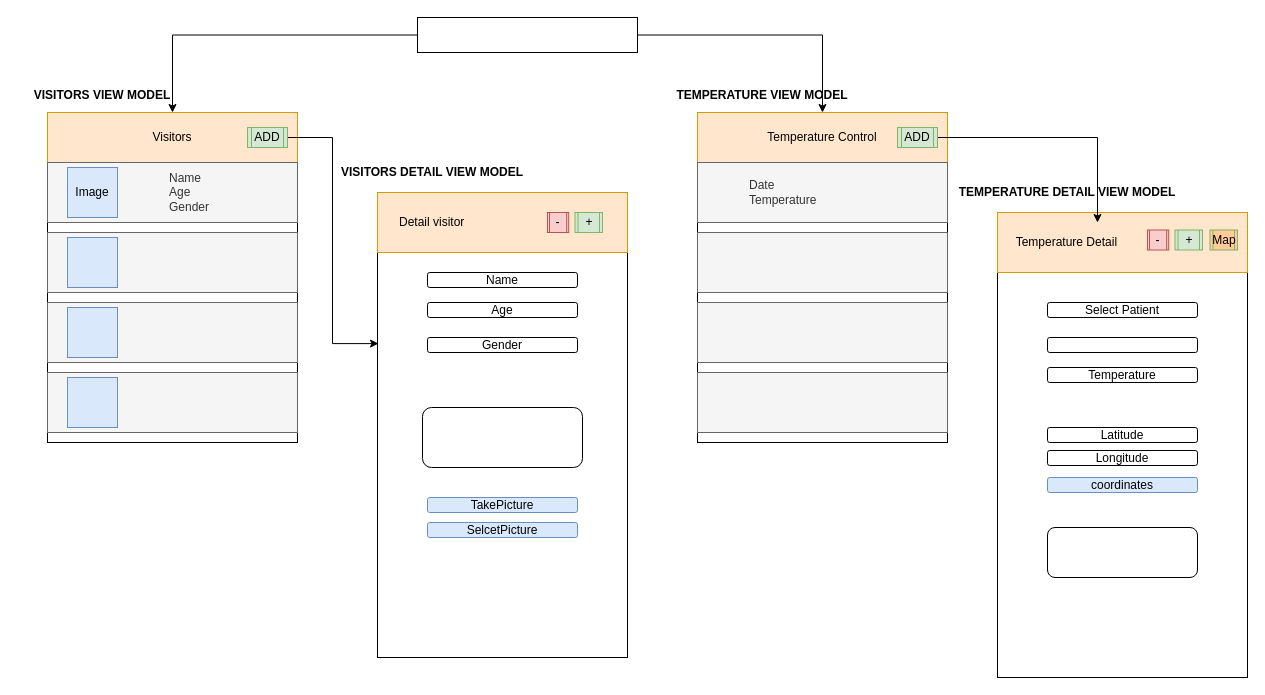
Image size: 1265x695. Some labels were removed from this diagram. Each missing label, with the centre of its shape:
"Comments" goes at [1122,552].
"DateTime" goes at [1122,344].
"Image Preview" goes at [502,437].
"TABBED WINDOWS" goes at [527,34].
